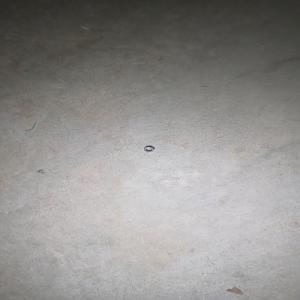Nut: (143, 145, 155, 152)
